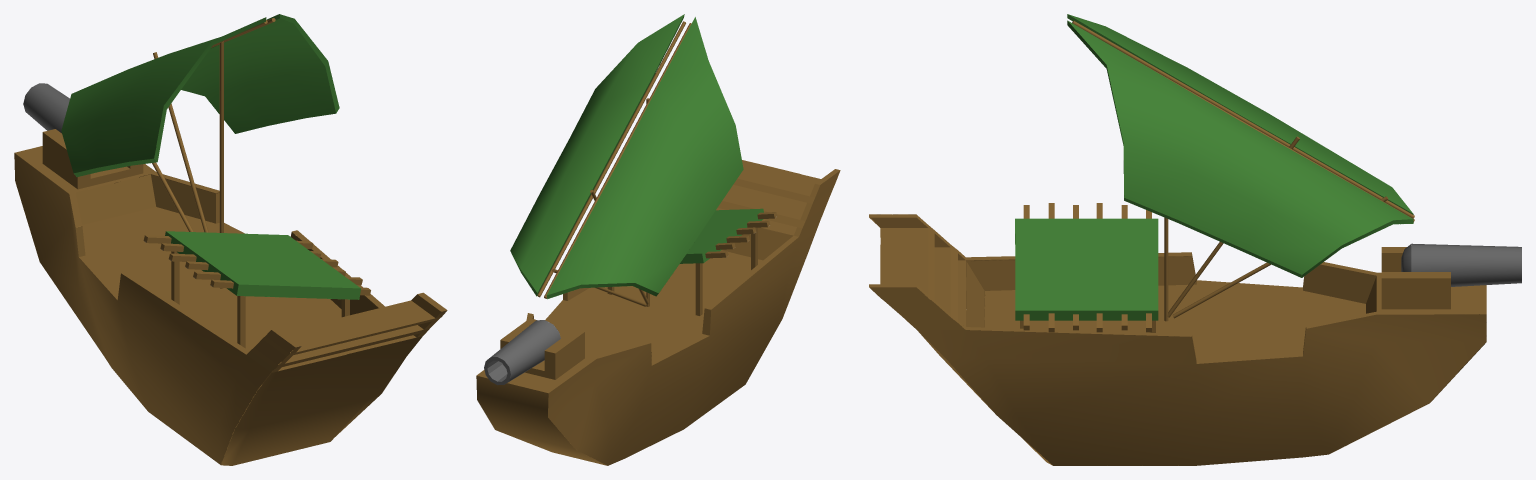
File: Model Textured_Bomber.fbx
The picture shows the model from 3 angles, left to right: view 1: azimuth 30°, elevation 25°; view 2: azimuth 150°, elevation 25°; view 3: azimuth 270°, elevation 25°; orthographic projection. The views are drawn at different scales.
Visible parts, largest first — view 1: Bomb_Wood, Bomber Sail001, Bomber Sail, Bomb_Leaf, Bomber 2, Bomb_Wood002; view 2: Bomb_Wood, Bomber Sail, Bomber Sail001, Bomber 2, Bomb_Leaf, Bomb_Top Poll001, Bomb_Top Poll, Bomb_Wood001; view 3: Bomb_Wood, Bomber Sail001, Bomb_Leaf, Bomber Sail, Bomber 2, Bomb_Top Poll.
Boxes of the visible parts, x1,y1,x2,y2 form: Bomb_Wood: (14, 41, 447, 465); Bomber Sail001: (181, 14, 339, 133); Bomber Sail: (61, 17, 266, 176); Bomb_Leaf: (165, 231, 360, 299); Bomber 2: (23, 83, 69, 133); Bomb_Wood002: (237, 296, 349, 348); Bomb_Wood: (476, 98, 840, 465); Bomber Sail: (546, 17, 743, 299); Bomber Sail001: (510, 14, 684, 296); Bomber 2: (484, 320, 560, 385); Bomb_Leaf: (680, 208, 763, 263); Bomb_Top Poll001: (537, 21, 685, 297); Bomb_Top Poll: (544, 23, 691, 298); Bomb_Wood001: (607, 263, 702, 315); Bomb_Wood: (869, 136, 1486, 465); Bomber Sail001: (1067, 20, 1413, 277); Bomb_Leaf: (1015, 218, 1158, 320); Bomber Sail: (1067, 14, 1413, 214); Bomber 2: (1401, 243, 1521, 286); Bomb_Top Poll: (1072, 20, 1414, 218).
Bounding box in the file's own units: 49.46 × 109 × 152.
